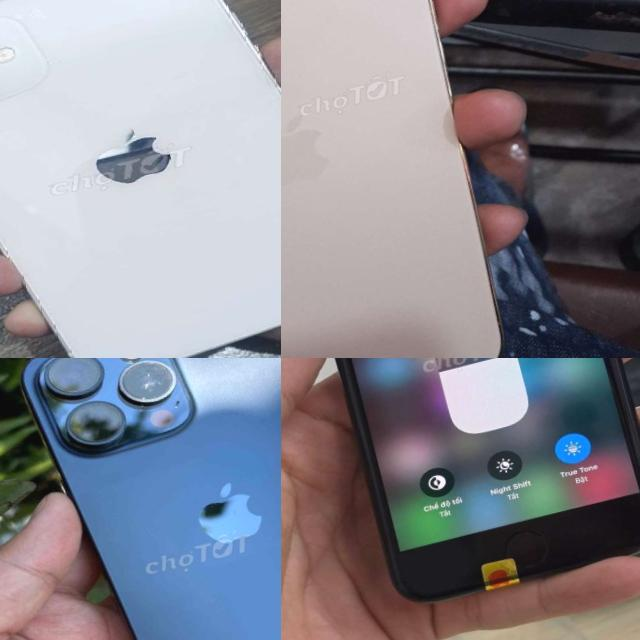scratch: (117, 358, 188, 413)
